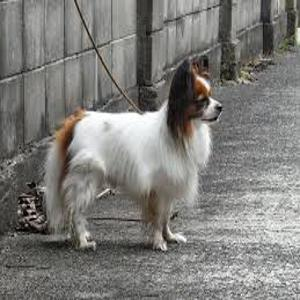yell: (44, 55, 223, 250)
